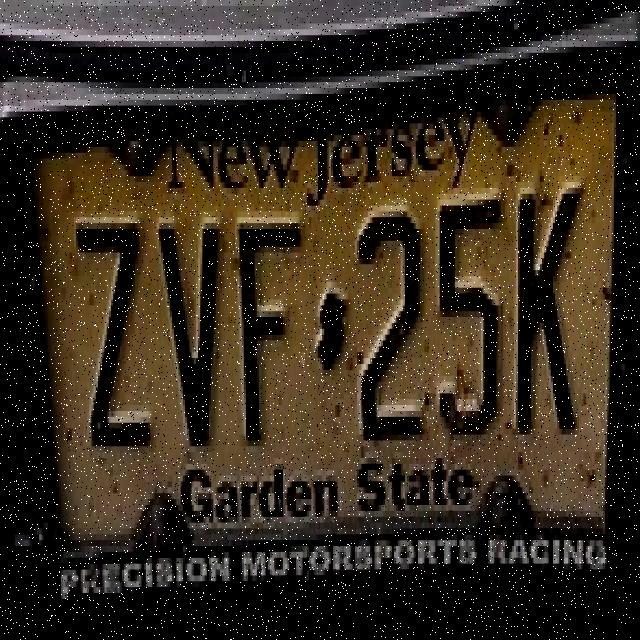licenseplate: (14, 76, 614, 614)
